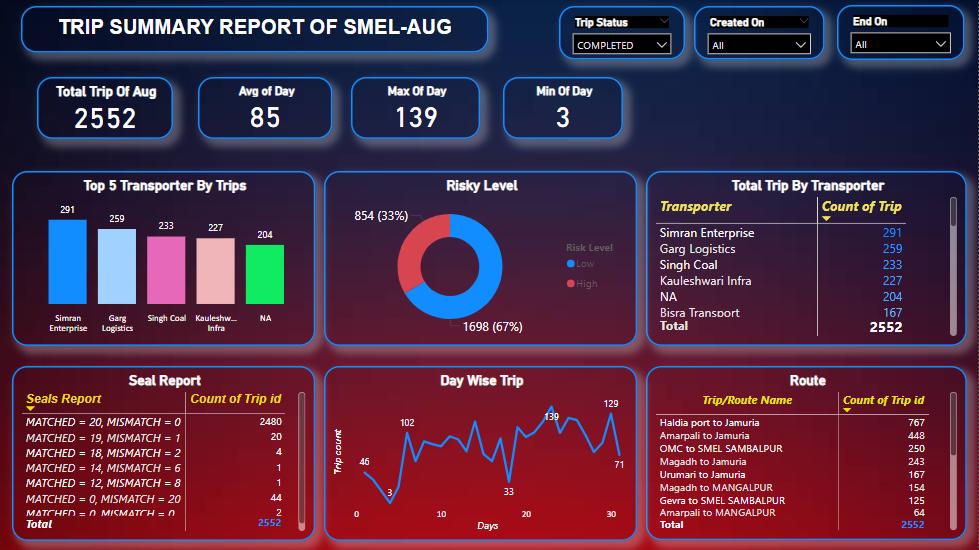

The dashboard page shown, as its layout file describes it:
{"tool":"powerbi","page":{"name":"SMEL-AUG","canvas":[1280,720],"ordinal":0},"visuals":[{"type":"card","title":"Total Trip Of Aug","fields":{"Values":["Table 1 (TripSummaryReport).Trip id"]},"box":[48.2,100.5,177.5,81.2],"z":0},{"type":"card","title":"Avg of Day","fields":{"Values":["Table 1 (TripSummaryReport).Count of Trip id average per Day"]},"box":[258.8,100.5,176.2,81.2],"z":1000},{"type":"card","title":"Max Of Day","fields":{"Values":["Table 1 (TripSummaryReport).Count of Trip id max per Day"]},"box":[459.7,100.5,169.3,81.2],"z":2000},{"type":"card","title":"Min Of Day","fields":{"Values":["Table 1 (TripSummaryReport).Count of Trip id min per Day"]},"box":[657.9,100.5,156.9,81.2],"z":3000},{"type":"slicer","fields":{"Values":["Table 1 (TripSummaryReport).Trip Status"]},"box":[732.2,8.3,165.2,70.2],"z":4000},{"type":"textbox","box":[27.6,7.7,612.4,61.4],"z":5000},{"type":"slicer","fields":{"Values":["Table 1 (TripSummaryReport).Created On.Variation.Date Hierarchy.Day"]},"box":[908.4,8.3,170.7,70.2],"z":6000},{"type":"clusteredColumnChart","title":"Top 5 Transporter By Trips","fields":{"Y":["Table 1 (TripSummaryReport).Trip id"],"Category":["Table 1 (TripSummaryReport).Transporter"]},"box":[15.7,223.9,396.7,229.1],"z":7000},{"type":"pivotTable","title":"Total Trip By Transporter","fields":{"Rows":["Table 1 (TripSummaryReport).Transporter"],"Values":["Table 1 (TripSummaryReport).Trip id"]},"box":[845.7,223.9,420.2,229.1],"z":8000},{"type":"donutChart","title":"Risky Level","fields":{"Category":["Table 1 (TripSummaryReport).Risk Level"],"Y":["Table 1 (TripSummaryReport).Trip id"]},"box":[424.1,223.9,409.7,229.1],"z":9000},{"type":"pivotTable","title":"Seal Report","fields":{"Rows":["Table 1 (TripSummaryReport).Seals Report"],"Values":["Table 1 (TripSummaryReport).Trip id"]},"box":[15.7,479.1,396.7,229.1],"z":10000},{"type":"pivotTable","title":"Route ","fields":{"Rows":["Table 1 (TripSummaryReport).Trip/Route Name"],"Values":["Table 1 (TripSummaryReport).Trip id"]},"box":[845.7,479.1,420.2,227.8],"z":11000},{"type":"lineChart","title":"Day Wise Trip","fields":{"Y":["Table 1 (TripSummaryReport).Trip id"],"Category":["Table 1 (TripSummaryReport).Created On.Variation.Date Hierarchy.Day"]},"box":[424.1,479.1,409.7,229.1],"z":12000},{"type":"slicer","fields":{"Values":["Table 1 (TripSummaryReport).End Time.Variation.Date Hierarchy.Day"]},"box":[1095.6,6.9,166.5,71.6],"z":13000}]}

Visuals, with their boxes in screenshot pixels (x1, y1, x2, y2), scaled from the page's 1280x720 canvas onto the 979x550 screenshot:
"Total Trip Of Aug" card: bbox(37, 77, 173, 139)
"Avg of Day" card: bbox(198, 77, 333, 139)
"Max Of Day" card: bbox(352, 77, 481, 139)
"Min Of Day" card: bbox(503, 77, 623, 139)
slicer - Table 1 (TripSummaryReport).Trip Status: bbox(560, 6, 686, 60)
textbox: bbox(21, 6, 490, 53)
slicer - Table 1 (TripSummaryReport).Created On.Variation.Date Hierarchy.Day: bbox(695, 6, 825, 60)
"Top 5 Transporter By Trips" clusteredColumnChart: bbox(12, 171, 315, 346)
"Total Trip By Transporter" pivotTable: bbox(647, 171, 968, 346)
"Risky Level" donutChart: bbox(324, 171, 638, 346)
"Seal Report" pivotTable: bbox(12, 366, 315, 541)
"Route " pivotTable: bbox(647, 366, 968, 540)
"Day Wise Trip" lineChart: bbox(324, 366, 638, 541)
slicer - Table 1 (TripSummaryReport).End Time.Variation.Date Hierarchy.Day: bbox(838, 5, 965, 60)
